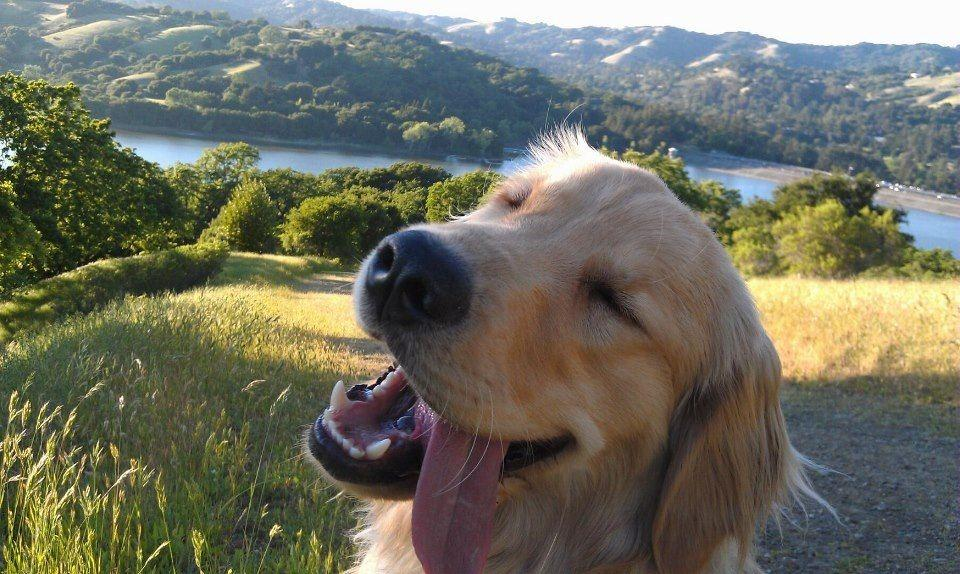adult_dog: (300, 120, 830, 574)
